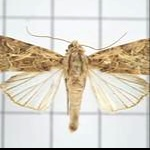Spodoptera litura: (0, 26, 149, 132)
